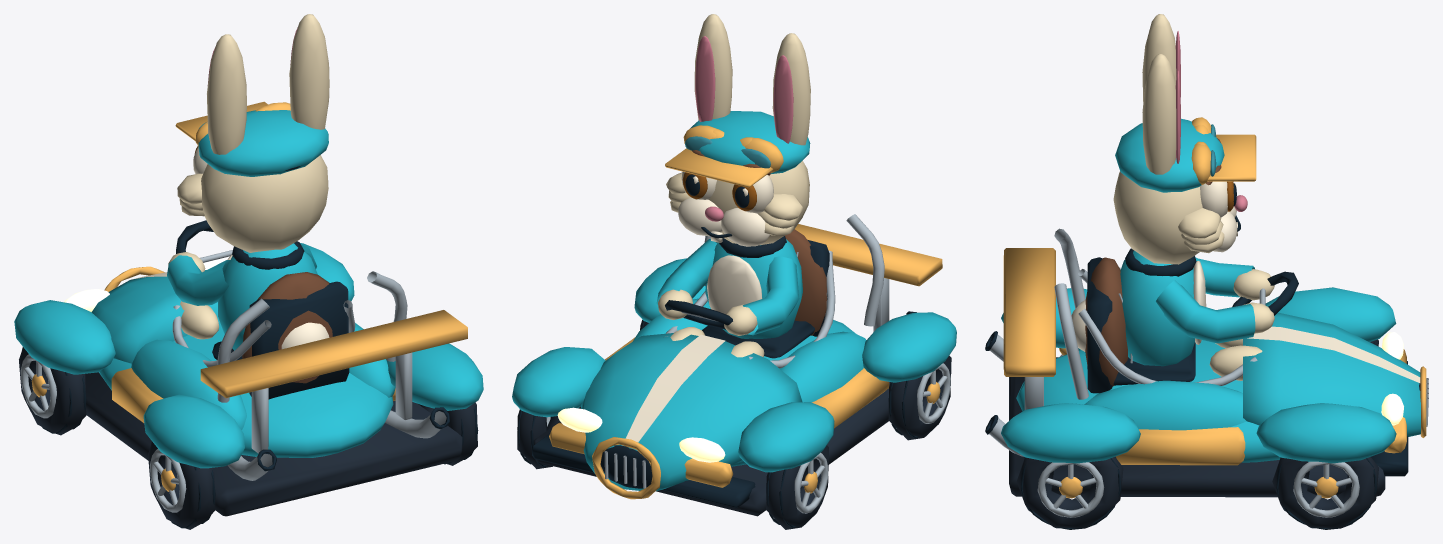
File: kart-heavy-low.glb
3 renders of one model, left to right at view 1: azimuth 30°, elevation 25°; view 2: azimuth 150°, elevation 25°; view 3: azimuth 270°, elevation 25°, orthographic. The views are drawn at different scales.
Parts seen in each view (by area): view 1: Suspension_Paint, Suspension_Rubber, Suspension_Accent, Head_Fur, Suspension_Alloy, Suspension_Obsidian, Accessory_cap_Paint, Ear_L_Fur, Ear_R_Fur, Wheel_LB_Rubber, Wheel_LF_Rubber, Suspension_Leather (+6 smaller); view 2: Suspension_Paint, Suspension_Accent, Suspension_Obsidian, Suspension_Ivory, Head_Fur, Suspension_Rubber, Suspension_Alloy, Head_Ivory, Accessory_cap_Paint, Wheel_LB_Rubber, Wheel_LF_Rubber, Ear_L_Fur (+15 smaller); view 3: Suspension_Paint, Suspension_Accent, Suspension_Rubber, Head_Fur, Suspension_Obsidian, Suspension_Alloy, Accessory_cap_Paint, Wheel_RF_Rubber, Wheel_RB_Rubber, Ear_R_Fur, Suspension_Ivory, Suspension_Fur (+9 smaller).
Boxes of the visible parts, x1,y1,x2,y2 form: Suspension_Paint: (14, 243, 483, 468); Suspension_Rubber: (85, 372, 462, 516); Suspension_Accent: (104, 266, 467, 422); Head_Fur: (177, 155, 328, 252); Suspension_Alloy: (172, 271, 446, 480); Suspension_Obsidian: (212, 241, 449, 471); Accessory_cap_Paint: (198, 110, 328, 176); Ear_L_Fur: (207, 34, 246, 154); Ear_R_Fur: (289, 14, 329, 129); Wheel_LB_Rubber: (148, 442, 215, 529); Wheel_LF_Rubber: (19, 347, 86, 435); Suspension_Leather: (242, 272, 332, 383); Suspension_Paint: (512, 239, 956, 491); Suspension_Accent: (549, 224, 942, 499); Suspension_Obsidian: (531, 236, 916, 507); Suspension_Ivory: (622, 255, 762, 445); Head_Fur: (666, 160, 809, 245); Suspension_Rubber: (533, 382, 890, 516); Suspension_Alloy: (604, 214, 889, 488); Head_Ivory: (678, 171, 773, 246); Accessory_cap_Paint: (690, 111, 810, 173); Wheel_LB_Rubber: (888, 355, 951, 440); Wheel_LF_Rubber: (766, 445, 828, 529); Ear_L_Fur: (772, 33, 810, 145); Suspension_Paint: (1001, 250, 1420, 463); Suspension_Accent: (1003, 248, 1426, 465); Suspension_Rubber: (1009, 357, 1385, 497); Head_Fur: (1113, 171, 1224, 264); Suspension_Obsidian: (985, 248, 1420, 476); Suspension_Alloy: (989, 228, 1428, 456); Accessory_cap_Paint: (1115, 118, 1224, 192); Wheel_RF_Rubber: (1272, 456, 1378, 528); Wheel_RB_Rubber: (1016, 457, 1123, 528); Ear_R_Fur: (1142, 54, 1176, 174); Suspension_Ivory: (1071, 261, 1420, 382); Suspension_Fur: (1209, 269, 1274, 380).
Size of the model in its own units: 2.35 by 3.12 by 2.92.
